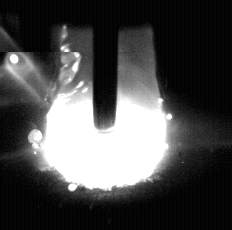arame: (94, 0, 117, 129)
poca: (45, 0, 168, 230)
